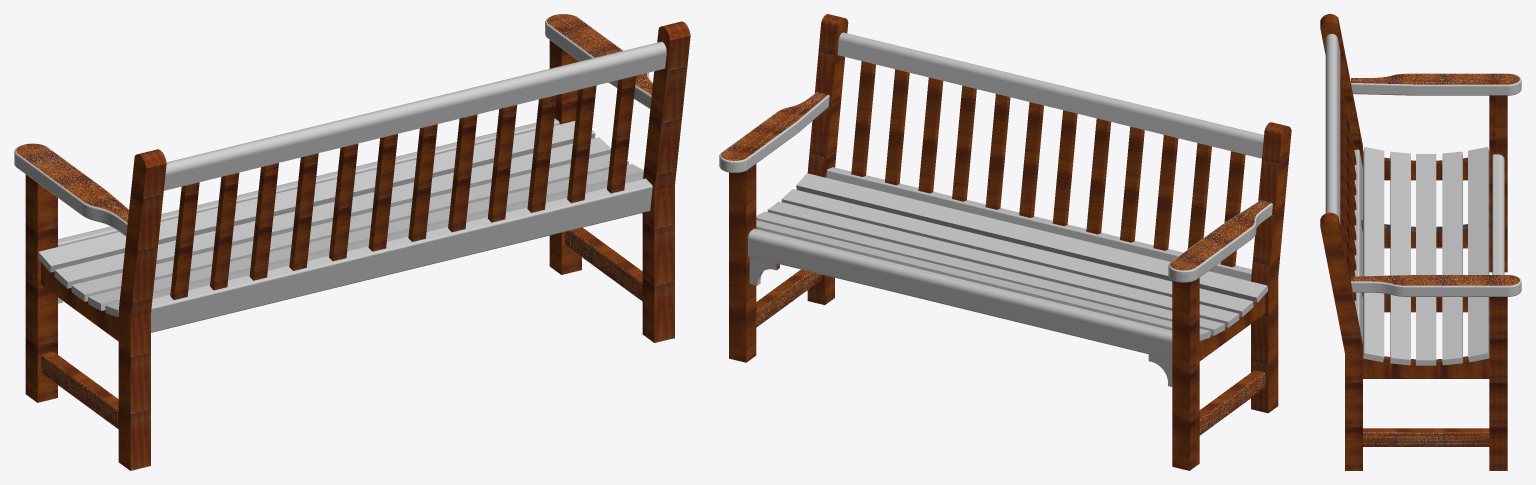
3 views of the same model, side by side, from view 1: azimuth 30°, elevation 25°; view 2: azimuth 150°, elevation 25°; view 3: azimuth 270°, elevation 25° (orthographic). The views are drawn at different scales.
Parts seen in each view (by area): view 1: mesh97_mesh97-geometry, mesh172_mesh172-geometry, mesh120_mesh120-geometry, mesh40_mesh40-geometry, mesh13_mesh13-geometry, mesh5_mesh5-geometry, mesh21_mesh21-geometry, mesh111_mesh111-geometry, mesh17_mesh17-geometry, mesh180_mesh180-geometry, mesh178_mesh178-geometry, mesh107_mesh107-geometry (+4 smaller); view 2: mesh172_mesh172-geometry, mesh97_mesh97-geometry, mesh107_mesh107-geometry, mesh40_mesh40-geometry, mesh13_mesh13-geometry, mesh120_mesh120-geometry, mesh9_mesh9-geometry, mesh1_mesh1-geometry, mesh178_mesh178-geometry, mesh180_mesh180-geometry, mesh111_mesh111-geometry, mesh21_mesh21-geometry (+5 smaller); view 3: mesh172_mesh172-geometry, mesh13_mesh13-geometry, mesh180_mesh180-geometry, mesh178_mesh178-geometry, mesh40_mesh40-geometry, mesh33_mesh33-geometry, mesh111_mesh111-geometry, mesh97_mesh97-geometry, mesh5_mesh5-geometry, mesh107_mesh107-geometry, mesh27_mesh27-geometry, mesh1_mesh1-geometry (+6 smaller).
Boxes of the visible parts, left/top/right/bottom form: mesh97_mesh97-geometry: left=170, top=76, right=636, bottom=299; mesh172_mesh172-geometry: left=37, top=121, right=643, bottom=317; mesh120_mesh120-geometry: left=151, top=178, right=652, bottom=332; mesh40_mesh40-geometry: left=164, top=41, right=666, bottom=190; mesh13_mesh13-geometry: left=118, top=21, right=690, bottom=470; mesh5_mesh5-geometry: left=33, top=46, right=581, bottom=402; mesh21_mesh21-geometry: left=642, top=24, right=676, bottom=342; mesh111_mesh111-geometry: left=41, top=227, right=642, bottom=428; mesh17_mesh17-geometry: left=137, top=23, right=683, bottom=469; mesh180_mesh180-geometry: left=14, top=143, right=128, bottom=236; mesh178_mesh178-geometry: left=545, top=14, right=652, bottom=108; mesh107_mesh107-geometry: left=58, top=118, right=559, bottom=246; mesh172_mesh172-geometry: left=756, top=173, right=1268, bottom=340; mesh97_mesh97-geometry: left=851, top=61, right=1245, bottom=267; mesh107_mesh107-geometry: left=748, top=228, right=1172, bottom=359; mesh40_mesh40-geometry: left=837, top=32, right=1263, bottom=158; mesh13_mesh13-geometry: left=807, top=14, right=1291, bottom=413; mesh120_mesh120-geometry: left=826, top=167, right=1251, bottom=281; mesh9_mesh9-geometry: left=1172, top=280, right=1192, bottom=470; mesh1_mesh1-geometry: left=729, top=169, right=749, bottom=362; mesh178_mesh178-geometry: left=719, top=92, right=829, bottom=172; mesh180_mesh180-geometry: left=1168, top=200, right=1272, bottom=282; mesh111_mesh111-geometry: left=756, top=269, right=1265, bottom=435; mesh21_mesh21-geometry: left=819, top=17, right=848, bottom=304; mesh172_mesh172-geometry: left=1363, top=147, right=1489, bottom=365; mesh13_mesh13-geometry: left=1320, top=14, right=1362, bottom=470; mesh180_mesh180-geometry: left=1351, top=73, right=1521, bottom=95; mesh178_mesh178-geometry: left=1351, top=275, right=1521, bottom=296; mesh40_mesh40-geometry: left=1325, top=34, right=1340, bottom=225; mesh33_mesh33-geometry: left=1363, top=157, right=1489, bottom=378; mesh111_mesh111-geometry: left=1363, top=247, right=1489, bottom=446; mesh97_mesh97-geometry: left=1340, top=78, right=1356, bottom=300; mesh5_mesh5-geometry: left=1489, top=95, right=1495, bottom=470; mesh107_mesh107-geometry: left=1492, top=154, right=1504, bottom=274; mesh27_mesh27-geometry: left=1320, top=19, right=1362, bottom=166; mesh1_mesh1-geometry: left=1501, top=297, right=1507, bottom=470.
Size of the model in its own units: 0.8277 by 0.4538 by 0.3303.
